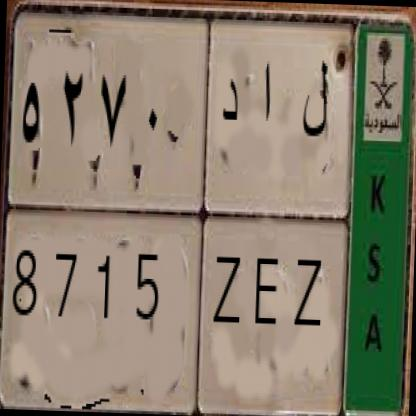english: (1, 199, 357, 416)
